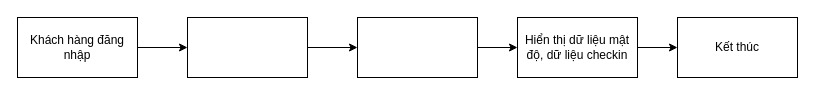
The diagram is 815 pixels wide and 95 high, and some of its shapes have lost their labels. Each missing label, with the centre of its shape:
Hệ thống truy xuất dữ liệu: (x=417, y=47)
Thống kê: (x=247, y=47)
